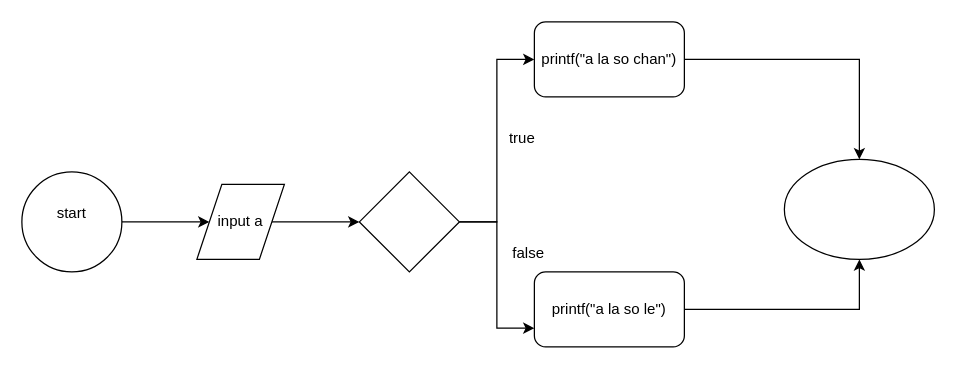
The diagram is 956 pixels wide and 369 high, and some of its shapes have lost their labels. The shapes that lost their labels are listed below. From the top down, each one's box as (x1, y1, x2, y2) in pixels, then its label:
(358, 171, 459, 272): a % 2 == 0
(783, 158, 934, 259): END
